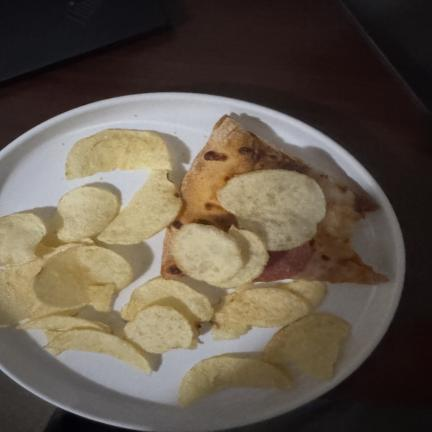chips: (217, 170, 325, 250), (98, 170, 182, 244), (34, 246, 132, 308), (262, 314, 349, 379), (179, 355, 292, 405), (66, 129, 171, 179), (46, 330, 151, 374), (173, 224, 243, 285), (121, 278, 213, 323), (216, 288, 310, 327), (58, 186, 120, 242), (125, 306, 194, 353), (218, 226, 268, 288), (0, 259, 41, 326), (0, 213, 46, 266), (212, 292, 251, 340), (18, 316, 110, 333), (35, 232, 95, 258), (278, 280, 325, 308), (28, 300, 80, 319), (89, 283, 116, 314)
pizza: (162, 116, 388, 284)
plate: (0, 93, 404, 431)
